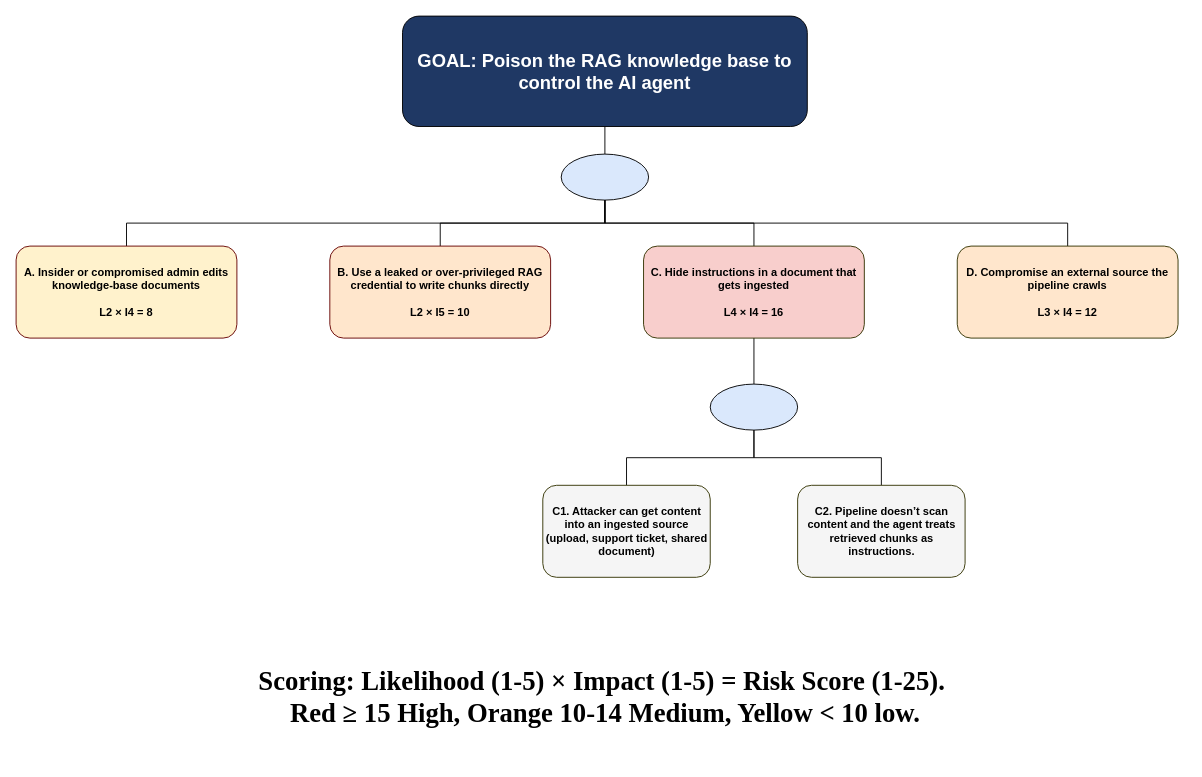
Some shapes in this 1202 by 777 pixel diagram are drawn without their labels. The shapes that lost their labels are listed below. From the top down, each one's box as (x1, y1, x2, y2) in pixels, then its label:
(560, 153, 649, 200): OR
(709, 383, 798, 430): AND
